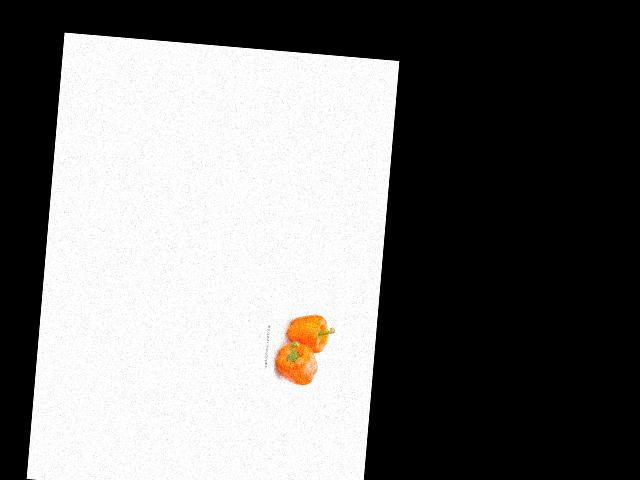bell_pepper: (269, 337, 321, 387)
